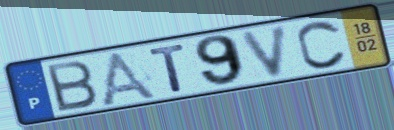9: (194, 33, 249, 89)
A: (97, 48, 162, 107)
B: (43, 58, 100, 114)
C: (295, 19, 349, 71)
T: (147, 42, 189, 94)
V: (238, 22, 292, 80)
